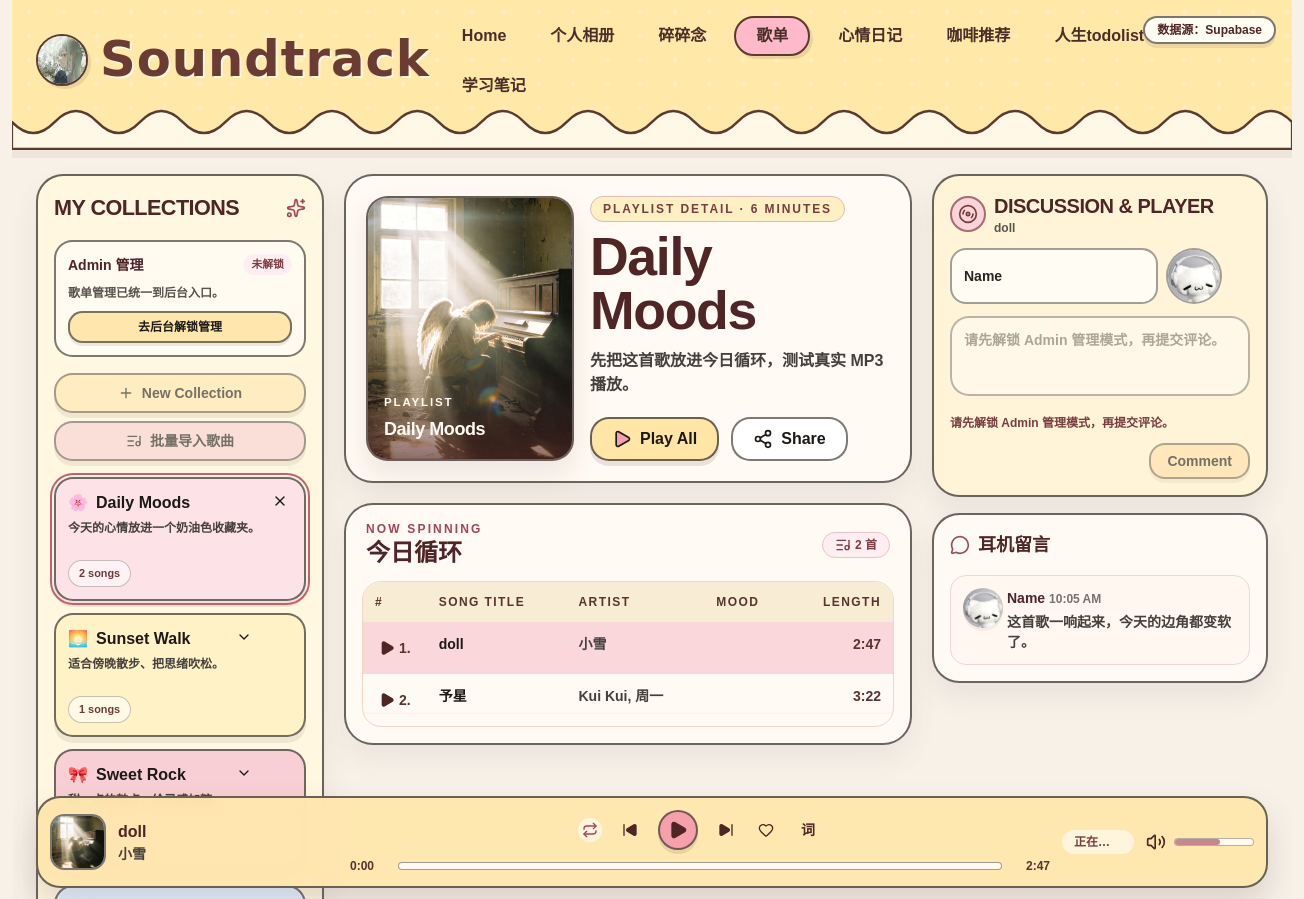
Test case: PlaylistsPageView › plays and pauses the current song from the bottom player
This screenshot has width=1304, height=899.
What coordinates should you click on to do the following:
click the button named "播放doll"
I would click on:
 (678, 830)
Its box is [658,810,698,850].
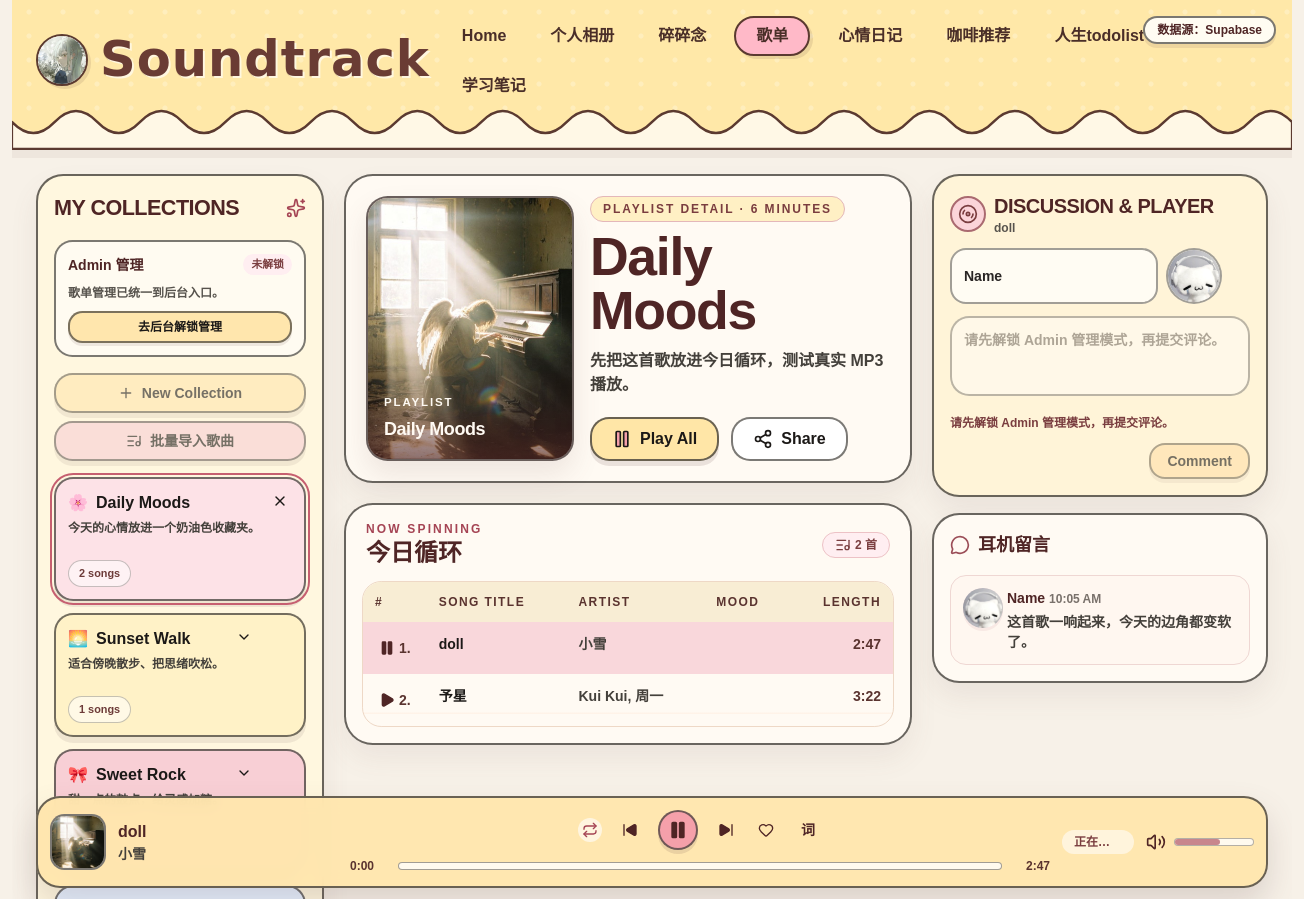
Expected: the text "正在播放 doll" is shown, [1062,830,1134,854]
Expected: the button named "暂停doll" is shown
What coordinates should you click on to do the following:
click the button named "暂停doll"
I would click on:
 (678, 830)
Its box is [658,810,698,850].
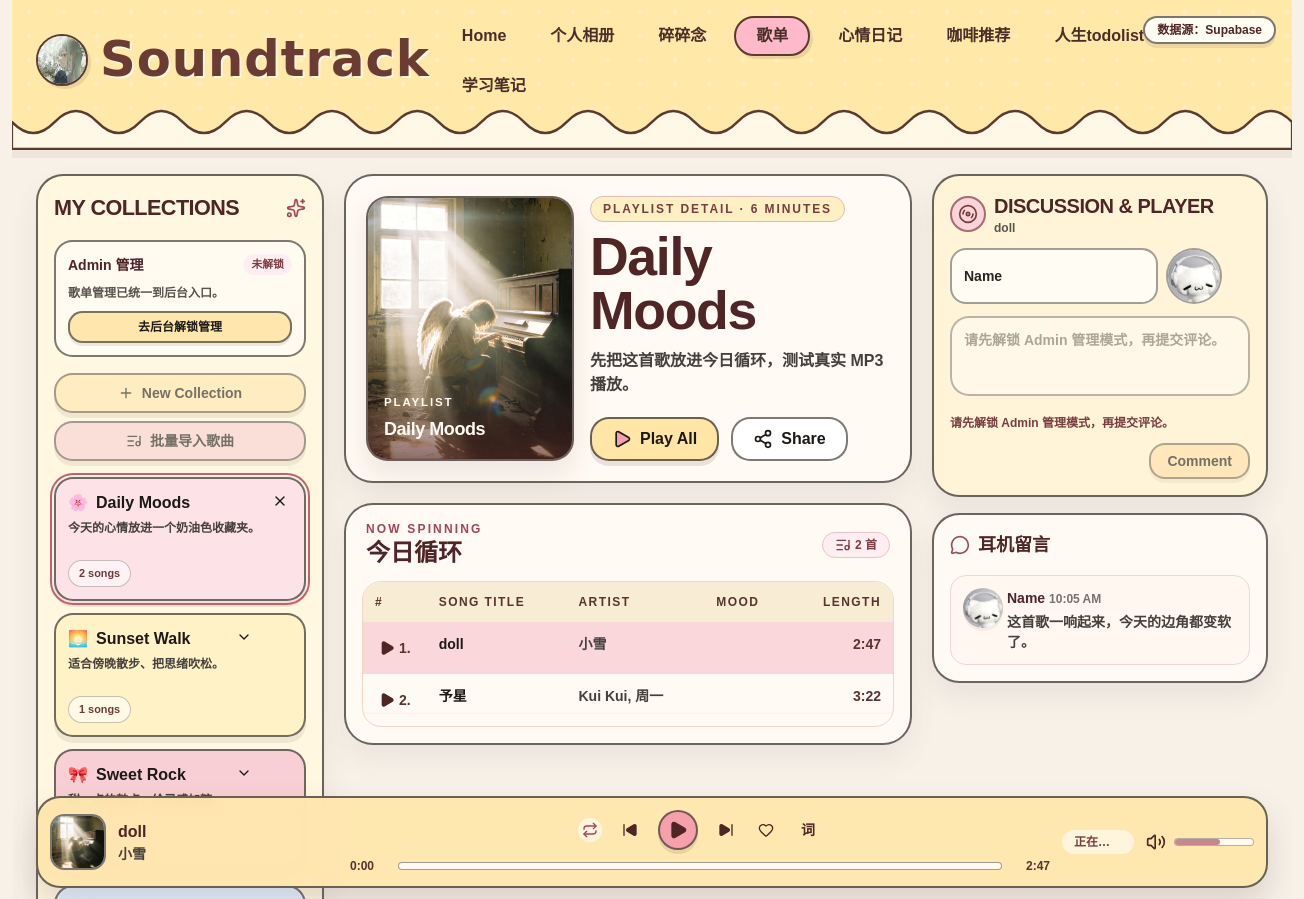
Expected: the button named "播放doll" is shown, [658,810,698,850]
